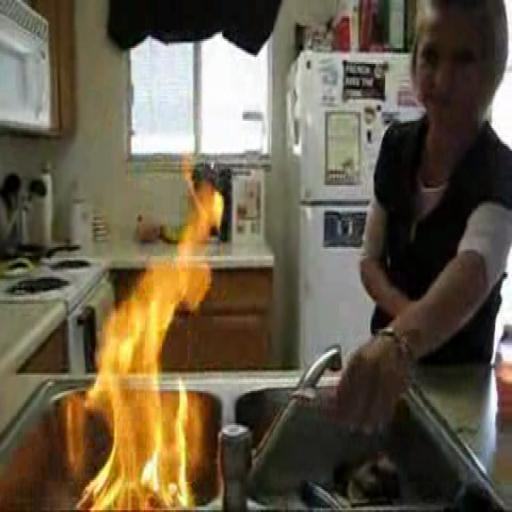fire: (95, 169, 193, 502)
